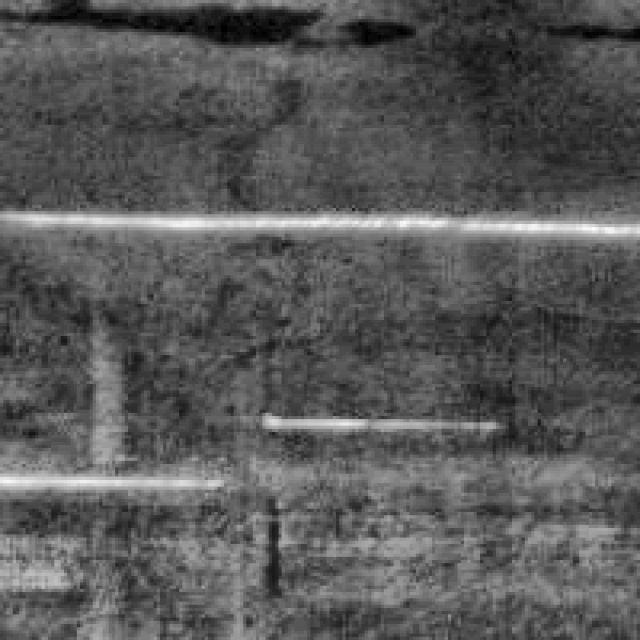Inclusion: (6, 192, 637, 253), (0, 458, 221, 496), (256, 400, 493, 429)
Patches: (250, 483, 288, 602)
